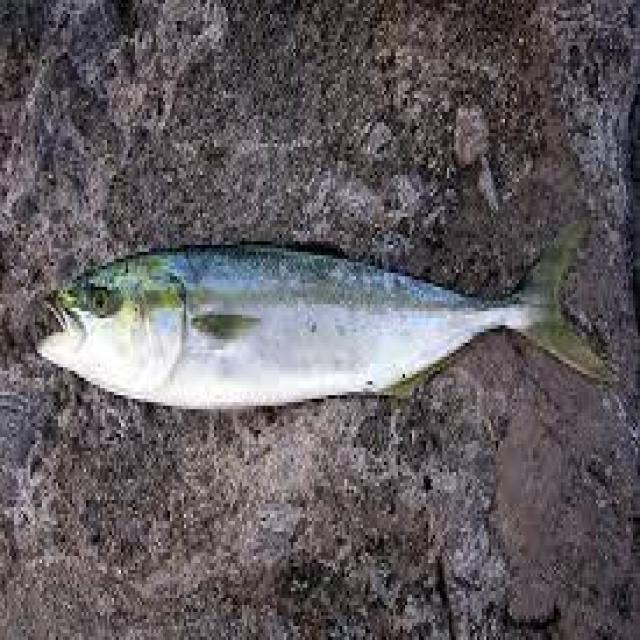Kingfish: (36, 208, 620, 422)
